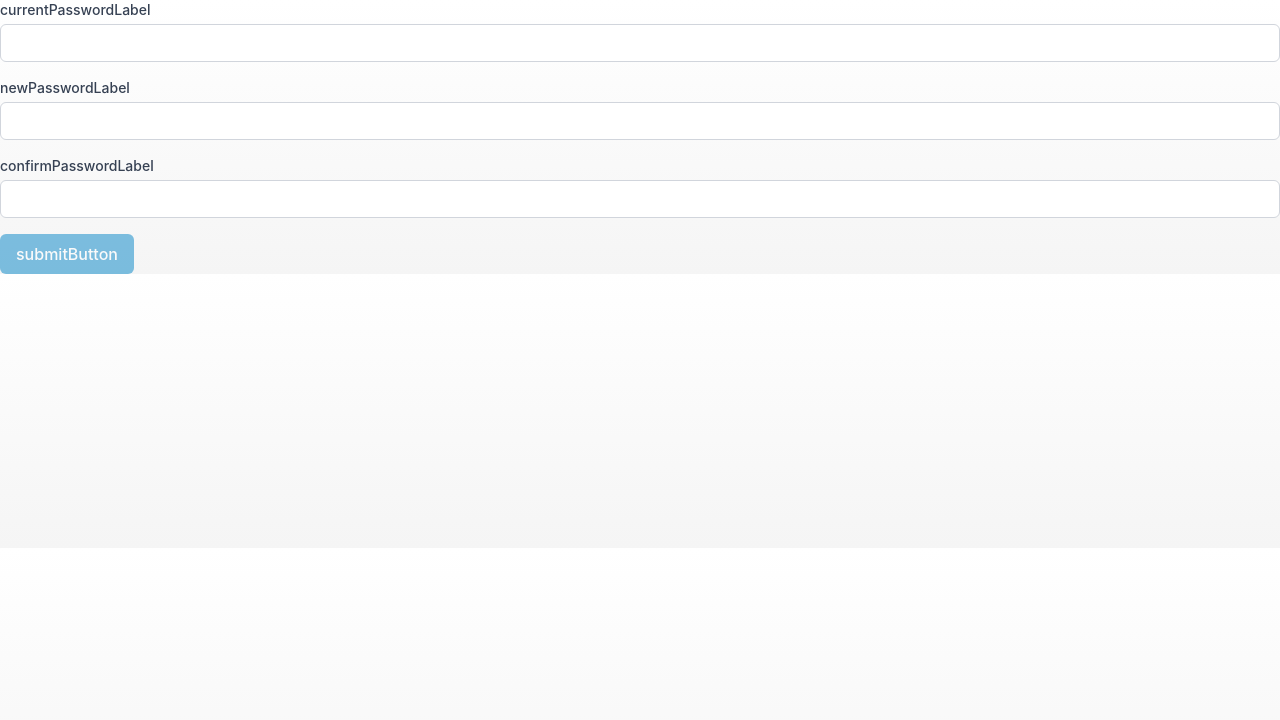
Test: ChangePasswordForm › validates password mismatch on submit
The width and height of the screenshot is (1280, 720).
Type "OldPass123" into the password field labelled "currentPasswordLabel" at (640, 43), box x1=0 y1=24 x2=1279 y2=62
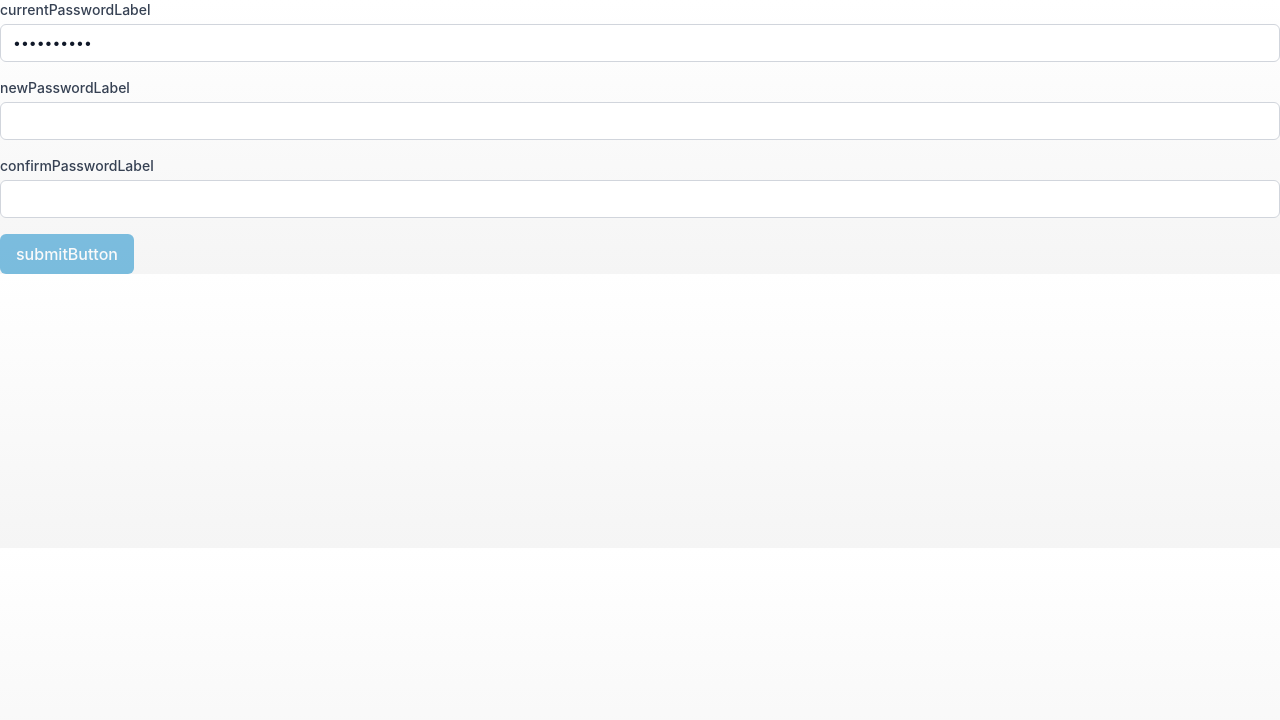
Type "NewPass123" into the password field labelled "newPasswordLabel" at (640, 121), box x1=0 y1=102 x2=1279 y2=140
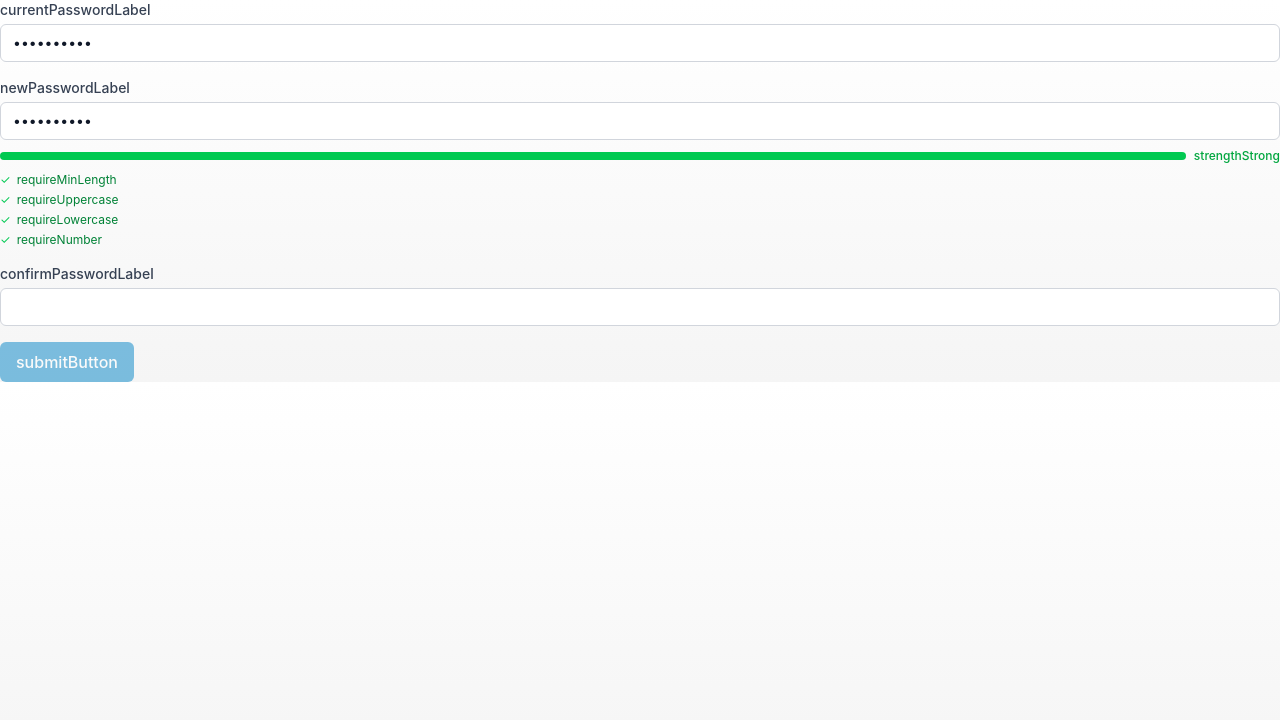
Type "Different123" into the password field labelled "confirmPasswordLabel" at (640, 307), box x1=0 y1=288 x2=1279 y2=326
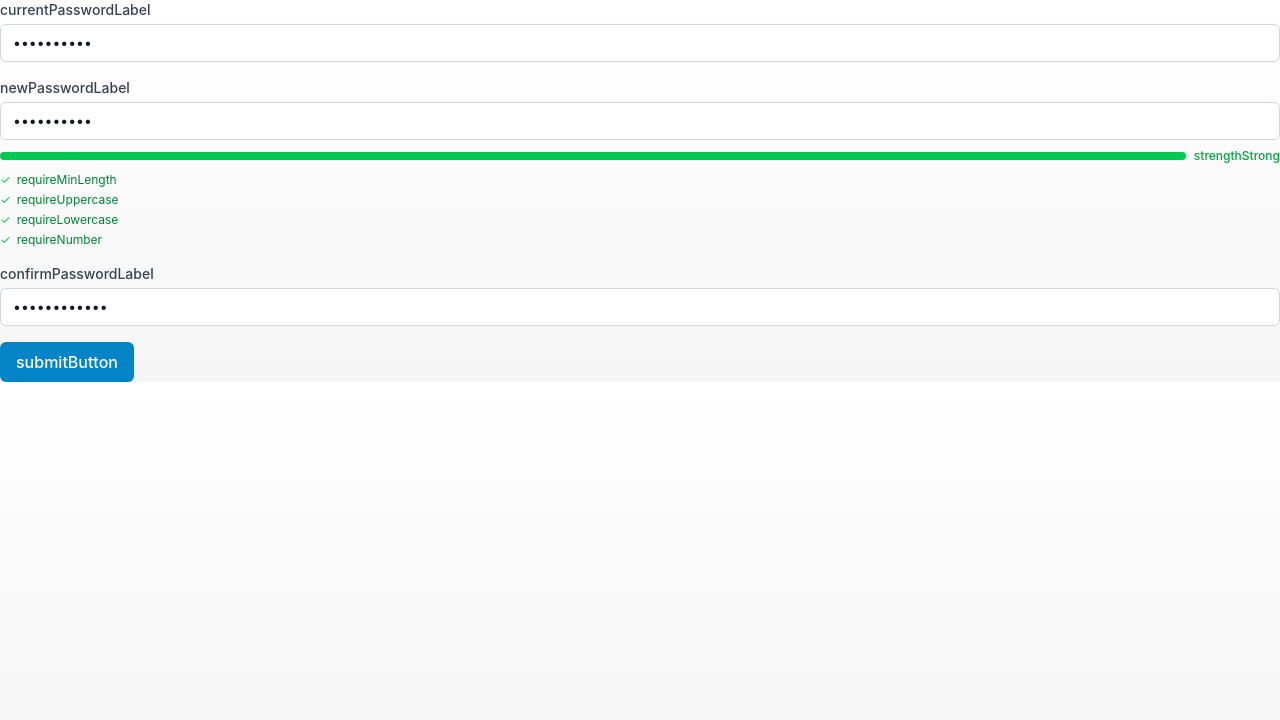
Click the button with test id "change-password-submit" at (67, 362), box x1=0 y1=342 x2=134 y2=382
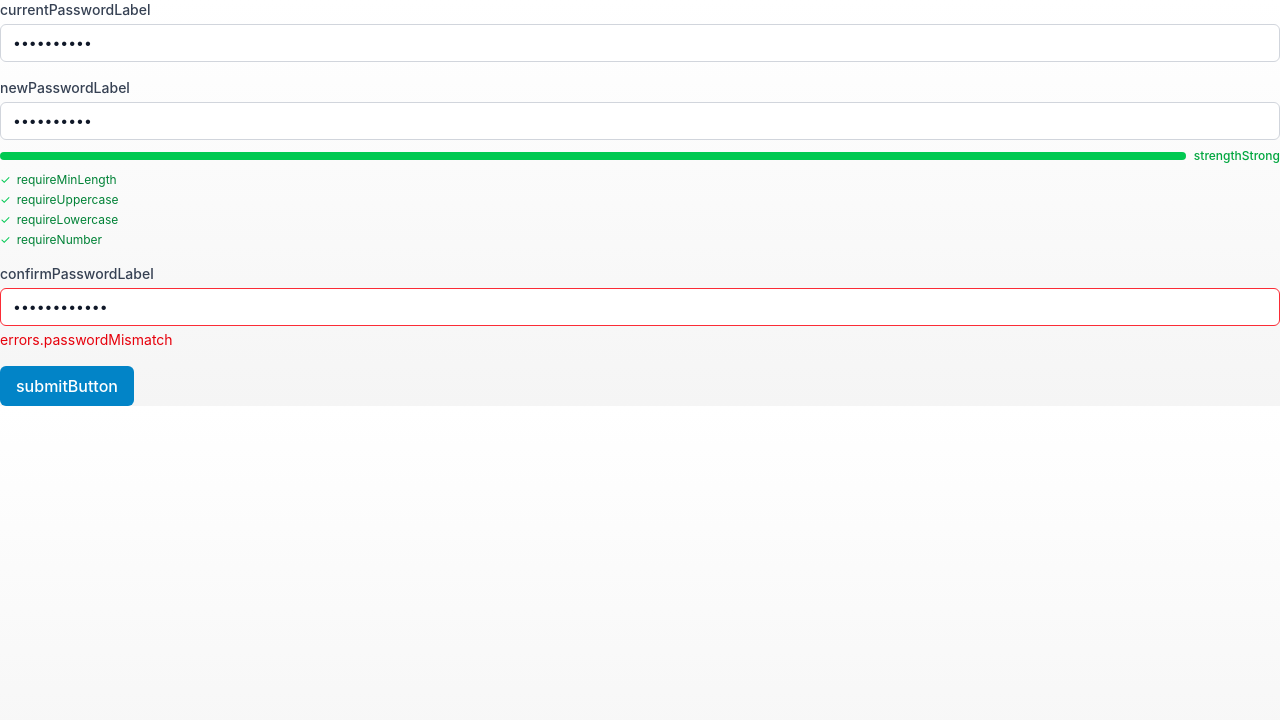
Expected: the text "errors.passwordMismatch" is shown, x1=0 y1=331 x2=173 y2=348
